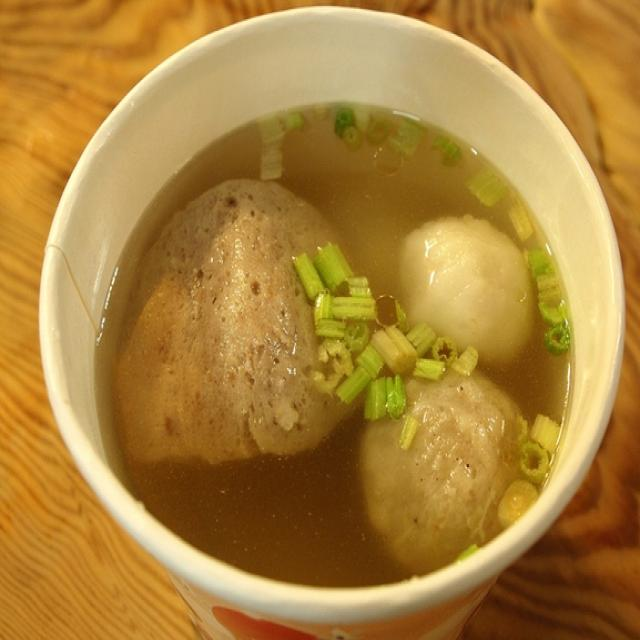熟制海鲜: (28, 26, 621, 615)
